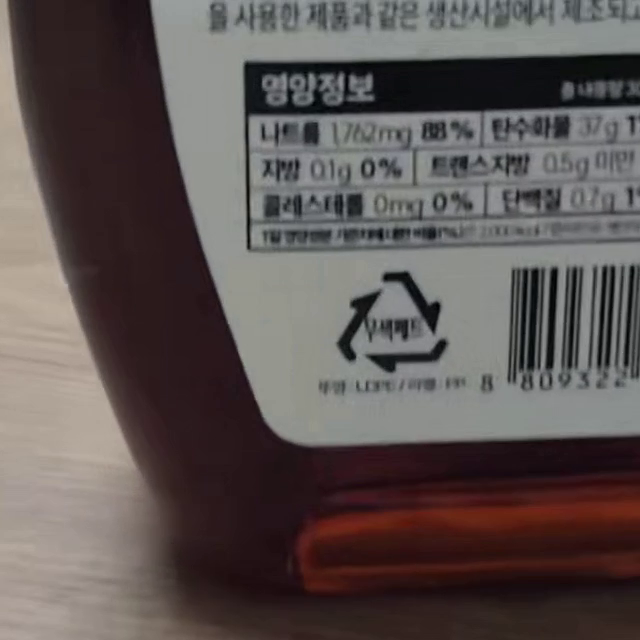ColorlessPet: (339, 273, 448, 372)
